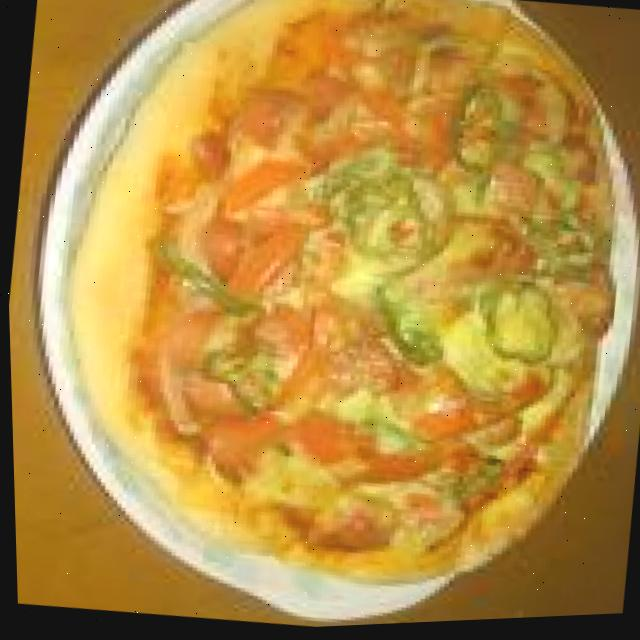汉堡快餐: (16, 0, 640, 639)
